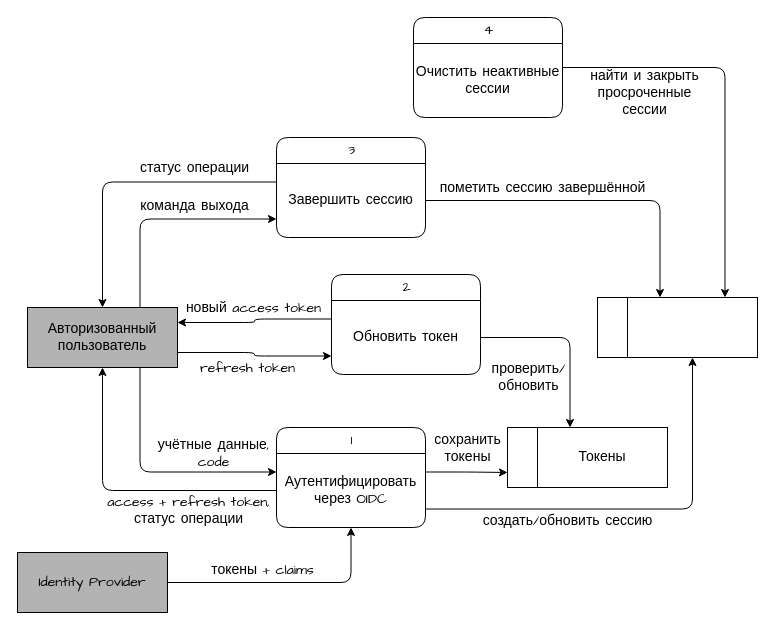
Image size: 775x630. Some labels were removed from this diagram. Here are the shapes that lost their labels. From the top down, the centre of each, then its label:
the point at 612,327: D1
the point at 692,327: Учетные данные/сессии
the point at 522,457: D2
